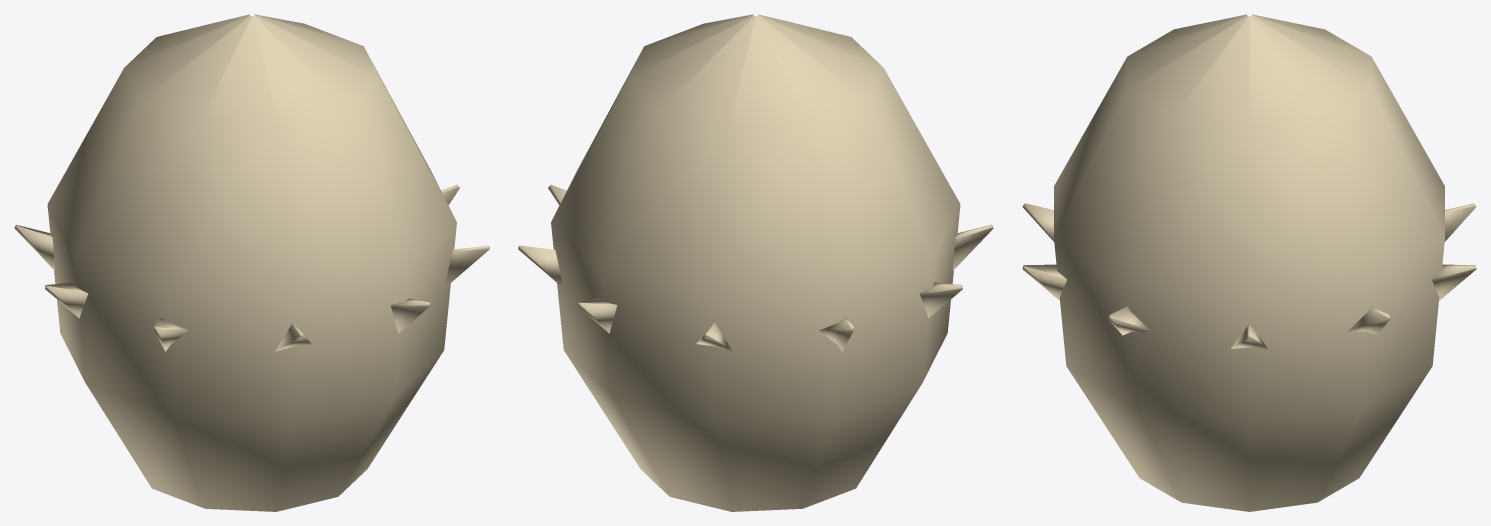
The model's file is spore-body.glb.
The picture shows the model from 3 angles, left to right: view 1: azimuth 30°, elevation 25°; view 2: azimuth 150°, elevation 25°; view 3: azimuth 270°, elevation 25°; orthographic projection.
Visible parts, largest first — view 1: fungus_spore-body_LOD0; view 2: fungus_spore-body_LOD0; view 3: fungus_spore-body_LOD0.
Boxes of the visible parts, x1,y1,x2,y2 form: fungus_spore-body_LOD0: (14, 14, 489, 511); fungus_spore-body_LOD0: (518, 14, 993, 511); fungus_spore-body_LOD0: (1022, 14, 1476, 511).
Bounding box in the file's own units: 0.3713 × 0.42 × 0.3537.
